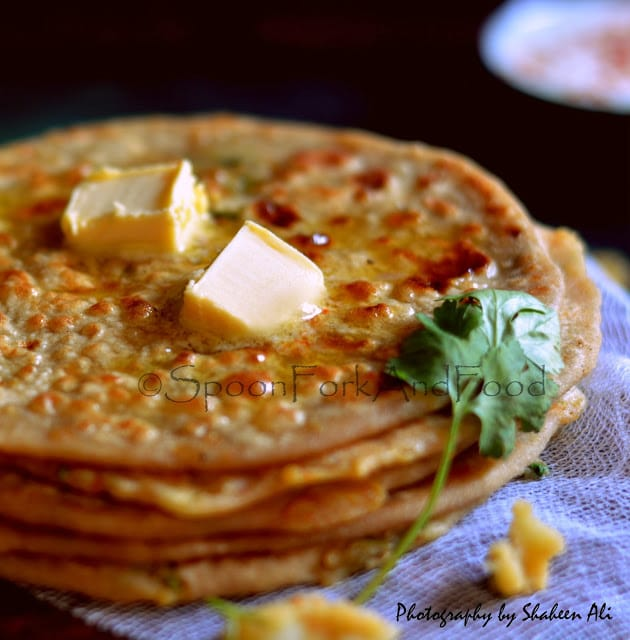aloo_paratha: (1, 102, 606, 596)
